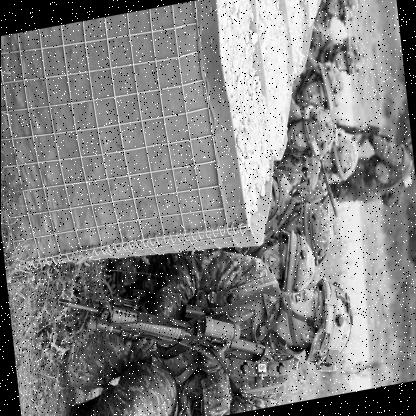rifle: (51, 254, 264, 412)
